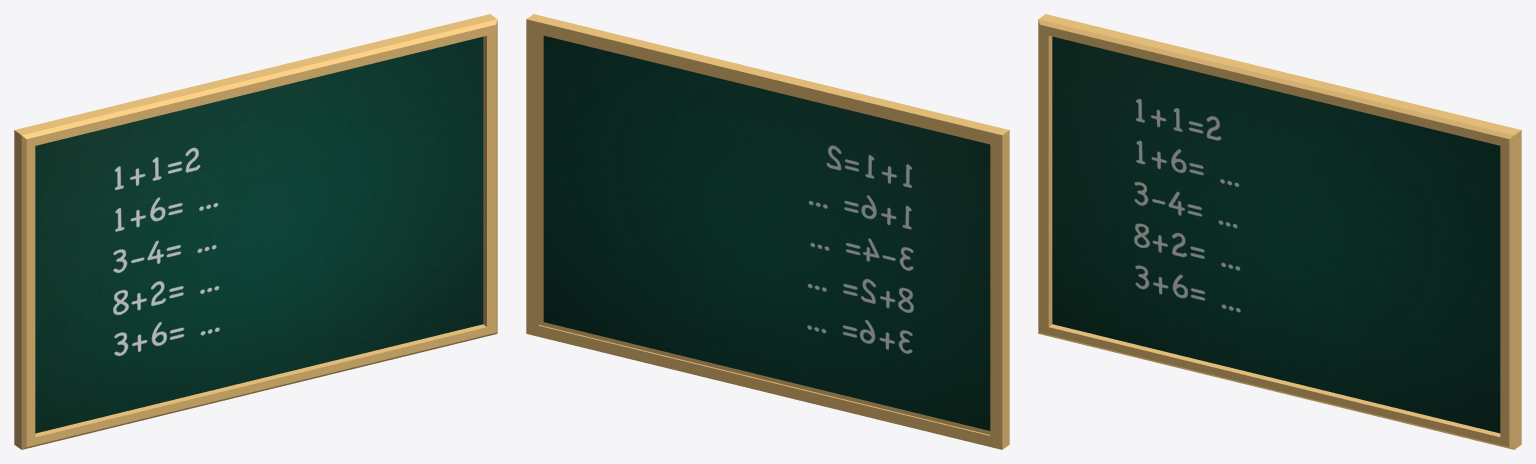
Rendered from BlackBoard_01.fbx.
3 renders of one model, left to right at view 1: azimuth 30°, elevation 25°; view 2: azimuth 150°, elevation 25°; view 3: azimuth 330°, elevation 25°, orthographic.
Visible parts, largest first — view 1: BlackBoard_001; view 2: BlackBoard_001; view 3: BlackBoard_001.
Boxes of the visible parts, bbox=[...] form: BlackBoard_001: bbox=[14, 14, 497, 449]; BlackBoard_001: bbox=[526, 14, 1009, 449]; BlackBoard_001: bbox=[1038, 14, 1521, 449].
Size of the model in its own units: 302 by 191 by 9.88.
